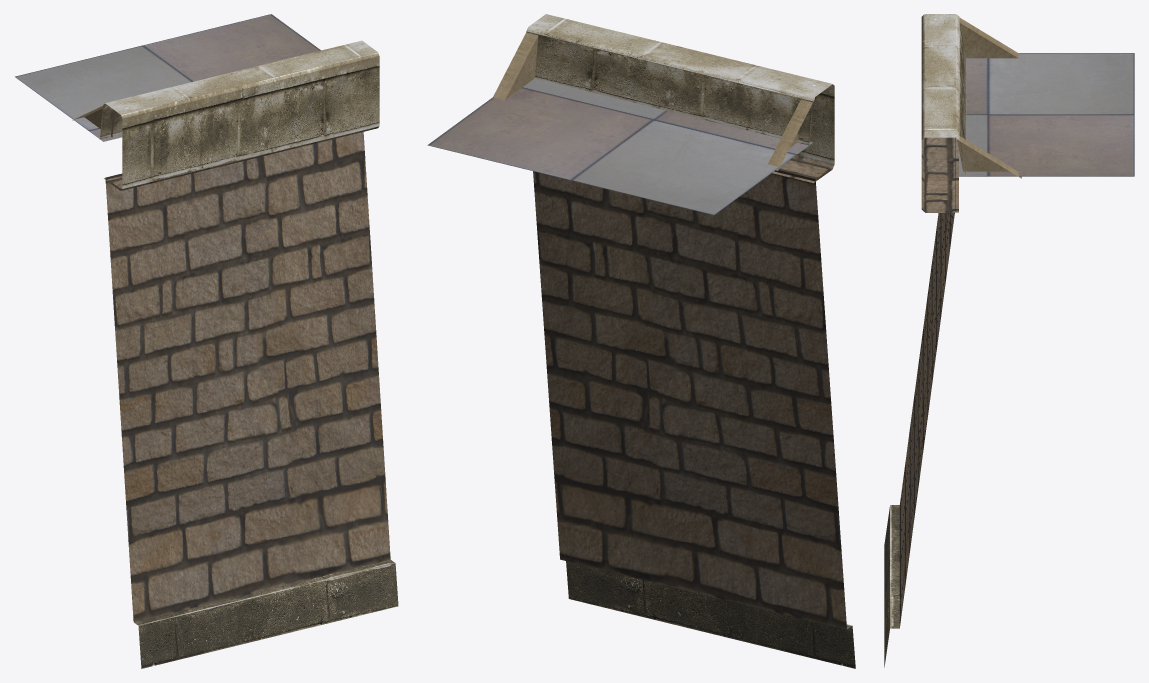
Rendered from castle-wall2.fbx.
3 renders of one model, left to right at view 1: azimuth 30°, elevation 25°; view 2: azimuth 150°, elevation 25°; view 3: azimuth 270°, elevation 25°, orthographic. The views are drawn at different scales.
Parts seen in each view (by area): view 1: castle-wall2; view 2: castle-wall2; view 3: castle-wall2.
Boxes of the visible parts, x1,y1,x2,y2 form: castle-wall2: (15, 14, 398, 668); castle-wall2: (427, 14, 855, 668); castle-wall2: (884, 14, 1134, 667).
Bounding box in the file's own units: 200 × 401 × 171.
